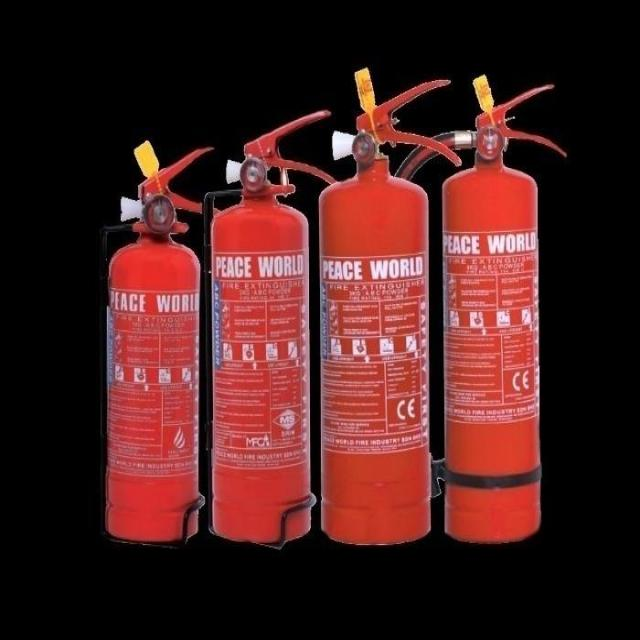fire_extinguisher: (375, 65, 570, 549), (313, 65, 463, 549), (204, 105, 346, 546), (98, 138, 227, 550)
